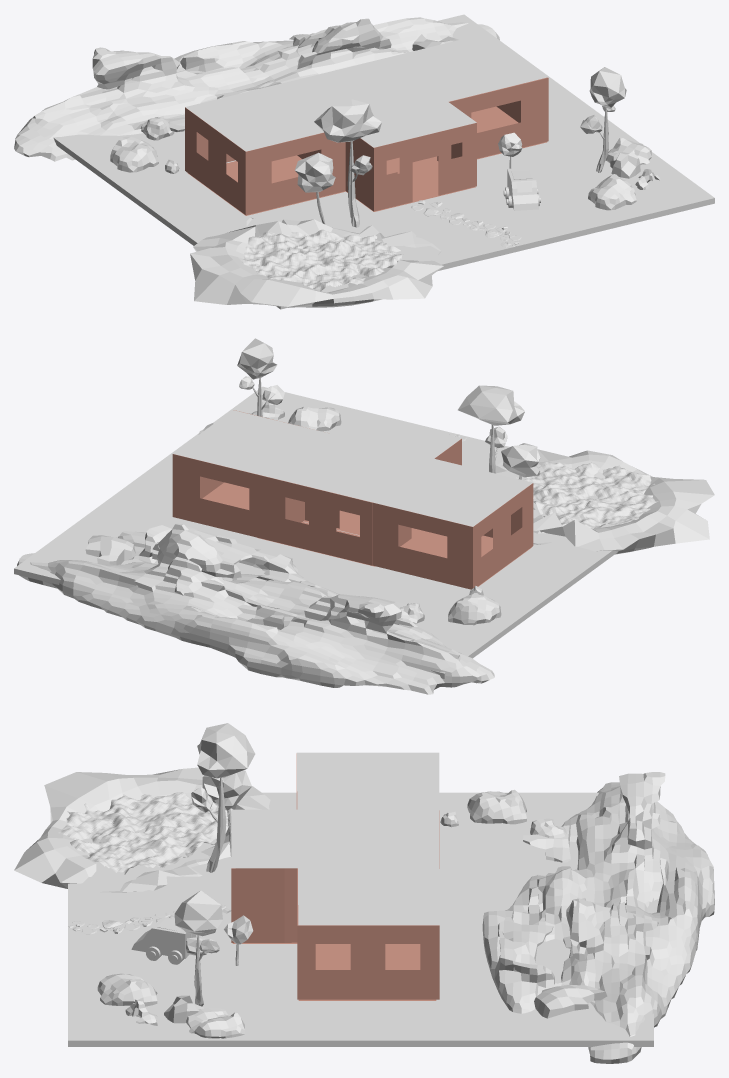
The model's file is House.fbx.
The picture shows the model from 3 angles, top to bottom: view 1: azimuth 30°, elevation 25°; view 2: azimuth 150°, elevation 25°; view 3: azimuth 270°, elevation 25°; orthographic projection. The views are drawn at different scales.
Visible parts, largest first — view 1: Cube.001, Sphere.003, Cube.015, Sphere.009, Plane, Cube.004, Cube.002, Cube.012, Cube.003, Icosphere, Cube.009, Sphere (+10 smaller); view 2: Sphere.003, Cube.001, Cube.015, Cube.002, Sphere.009, Plane, Cube.006, Cube.003, Icosphere, Cube.004, Sphere, Sphere.008 (+4 smaller); view 3: Cube.001, Sphere.003, Cube.015, Sphere.009, Cube.002, Plane, Cube.004, Icosphere, Sphere, Sphere.008, Icosphere.005, Sphere.007 (+7 smaller).
Boxes of the visible parts, x1=… form: Cube.001: x1=53, y1=14, x2=714, y2=309; Sphere.003: x1=14, y1=17, x2=499, y2=161; Cube.015: x1=185, y1=33, x2=547, y2=151; Sphere.009: x1=190, y1=217, x2=443, y2=307; Plane: x1=241, y1=229, x2=402, y2=291; Cube.004: x1=297, y1=106, x2=546, y2=211; Cube.002: x1=185, y1=100, x2=520, y2=215; Cube.012: x1=449, y1=77, x2=548, y2=158; Cube.003: x1=186, y1=108, x2=245, y2=214; Icosphere: x1=314, y1=99, x2=381, y2=142; Cube.009: x1=346, y1=157, x2=475, y2=211; Sphere: x1=110, y1=136, x2=158, y2=172; Sphere.003: x1=17, y1=523, x2=494, y2=694; Cube.001: x1=14, y1=386, x2=619, y2=678; Cube.015: x1=173, y1=410, x2=532, y2=526; Cube.002: x1=172, y1=454, x2=533, y2=589; Sphere.009: x1=495, y1=449, x2=714, y2=554; Plane: x1=523, y1=462, x2=658, y2=528; Cube.006: x1=270, y1=478, x2=372, y2=565; Cube.003: x1=474, y1=483, x2=532, y2=587; Icosphere: x1=458, y1=385, x2=524, y2=425; Cube.004: x1=202, y1=439, x2=461, y2=546; Sphere: x1=448, y1=593, x2=501, y2=625; Sphere.008: x1=85, y1=535, x2=135, y2=565; Cube.001: x1=68, y1=792, x2=653, y2=1046; Sphere.003: x1=482, y1=772, x2=714, y2=1063; Cube.015: x1=231, y1=752, x2=439, y2=925; Sphere.009: x1=14, y1=767, x2=270, y2=892; Cube.002: x1=296, y1=753, x2=439, y2=999; Plane: x1=58, y1=792, x2=232, y2=874; Cube.004: x1=231, y1=868, x2=436, y2=1000; Icosphere: x1=197, y1=723, x2=255, y2=778; Sphere: x1=467, y1=789, x2=526, y2=824; Sphere.008: x1=534, y1=985, x2=607, y2=1018; Icosphere.005: x1=174, y1=890, x2=222, y2=936; Sphere.007: x1=97, y1=973, x2=157, y2=1006.
Bounding box in the file's own units: 6171 × 1677 × 6414.
